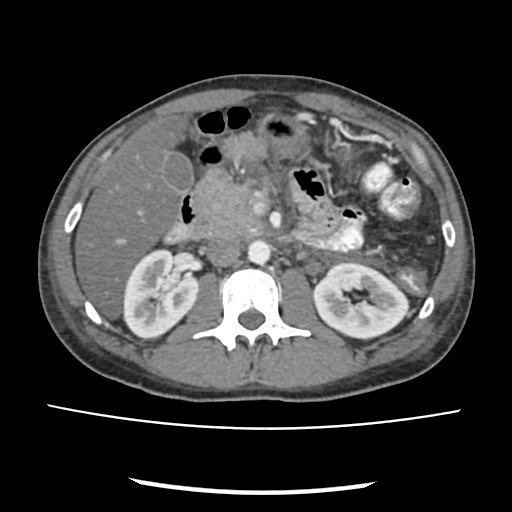aorta: (245, 239, 271, 266)
